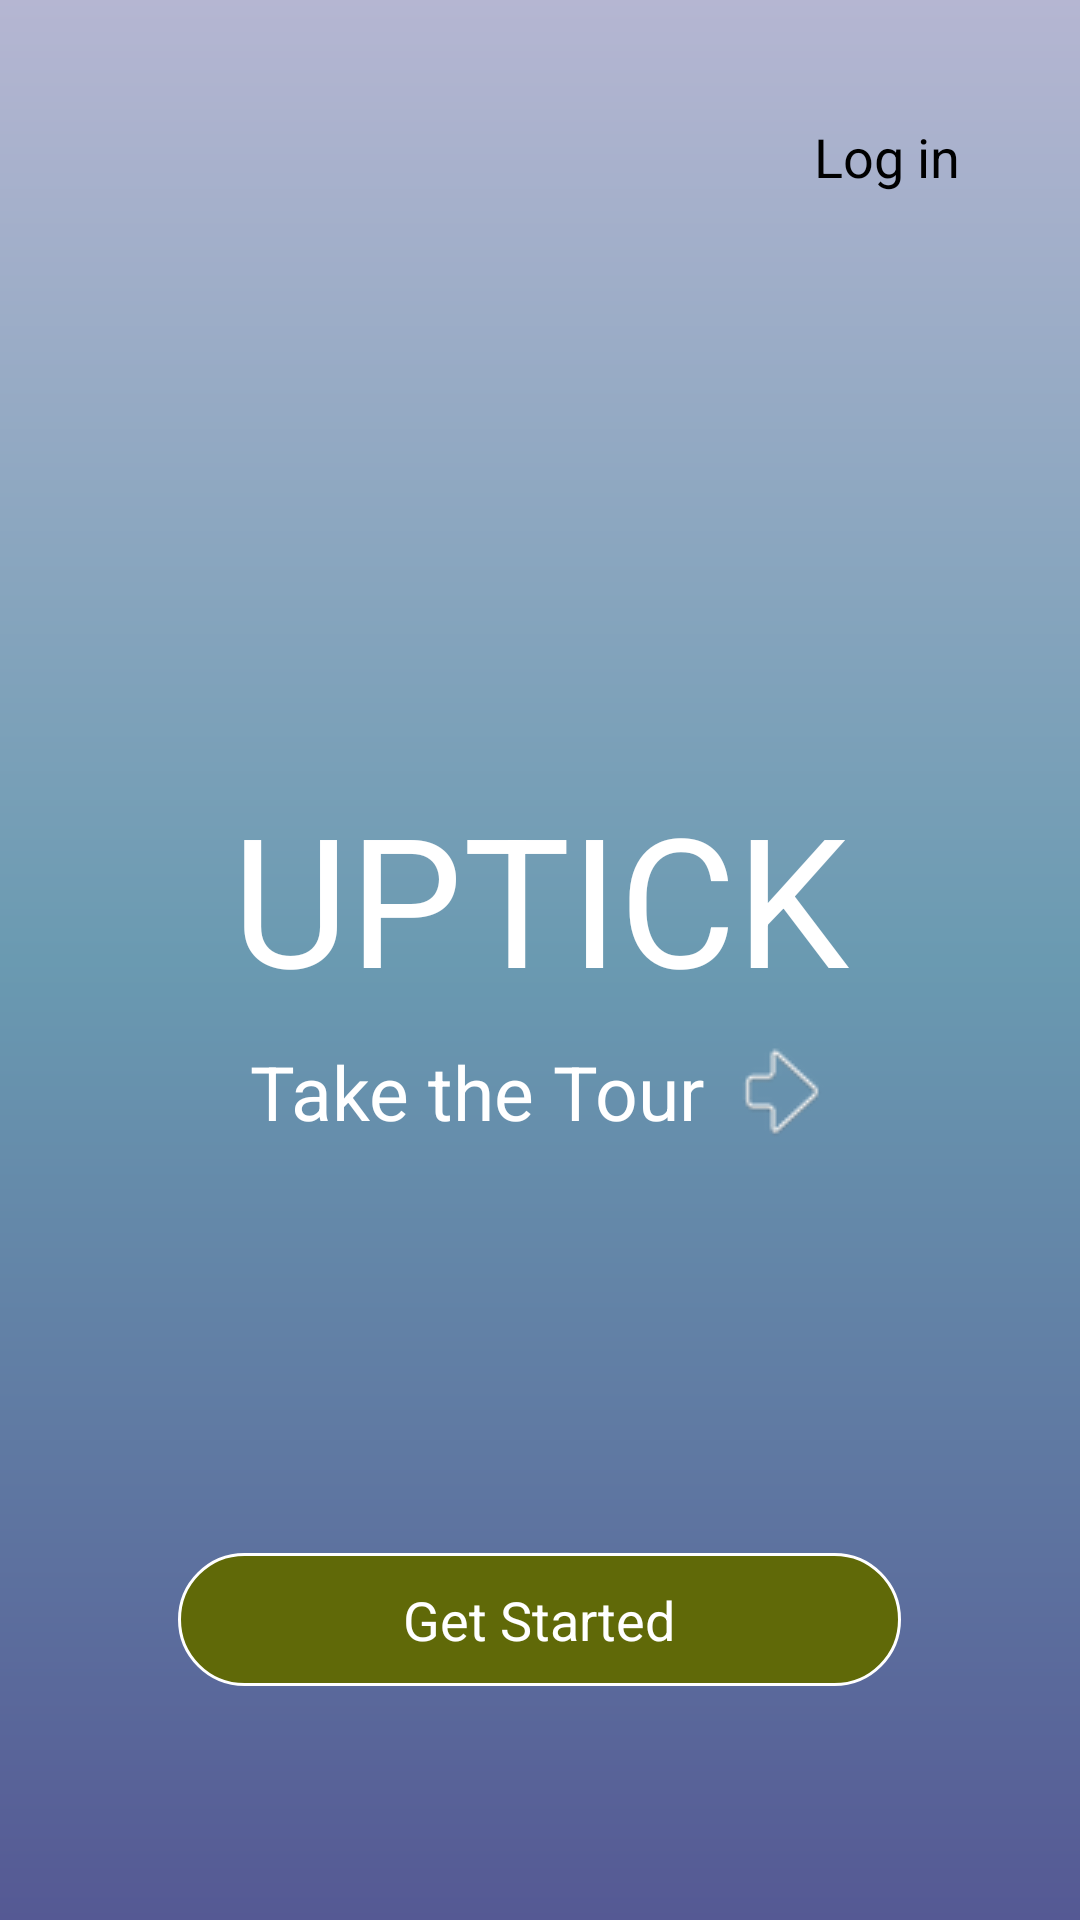

Point at icon controls on the screen. Image size 1080w x 1920h, points as [x,y].
arrow: [782,1091]
